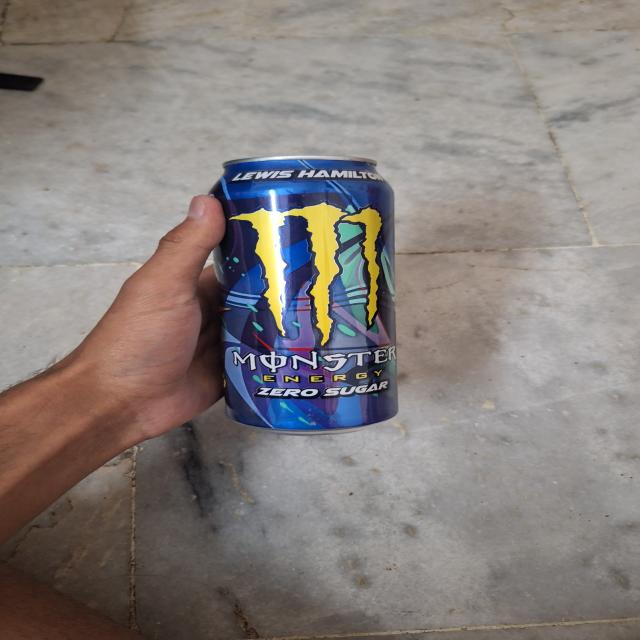Monster LH44: (223, 149, 404, 438)
